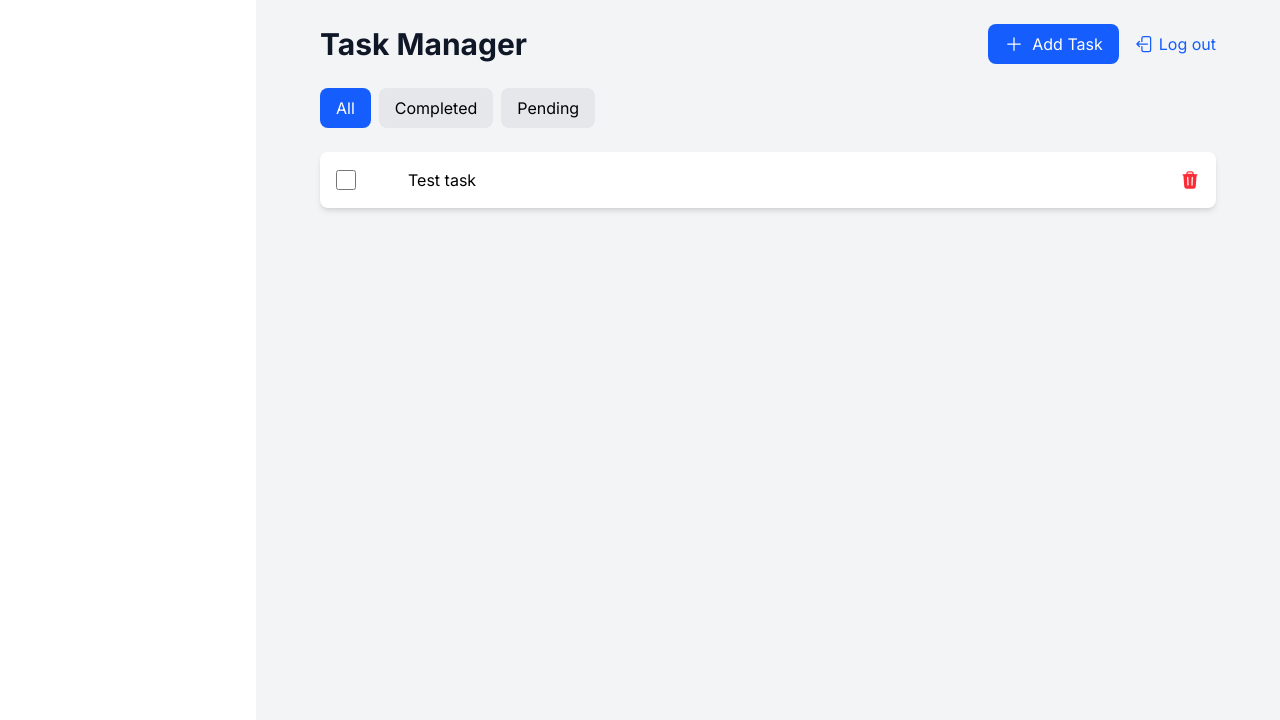
Test case: Tasks page › should show tasks and allows to toggle descriptions
Click the text "Test task": [442, 180] box [408, 168, 476, 192]
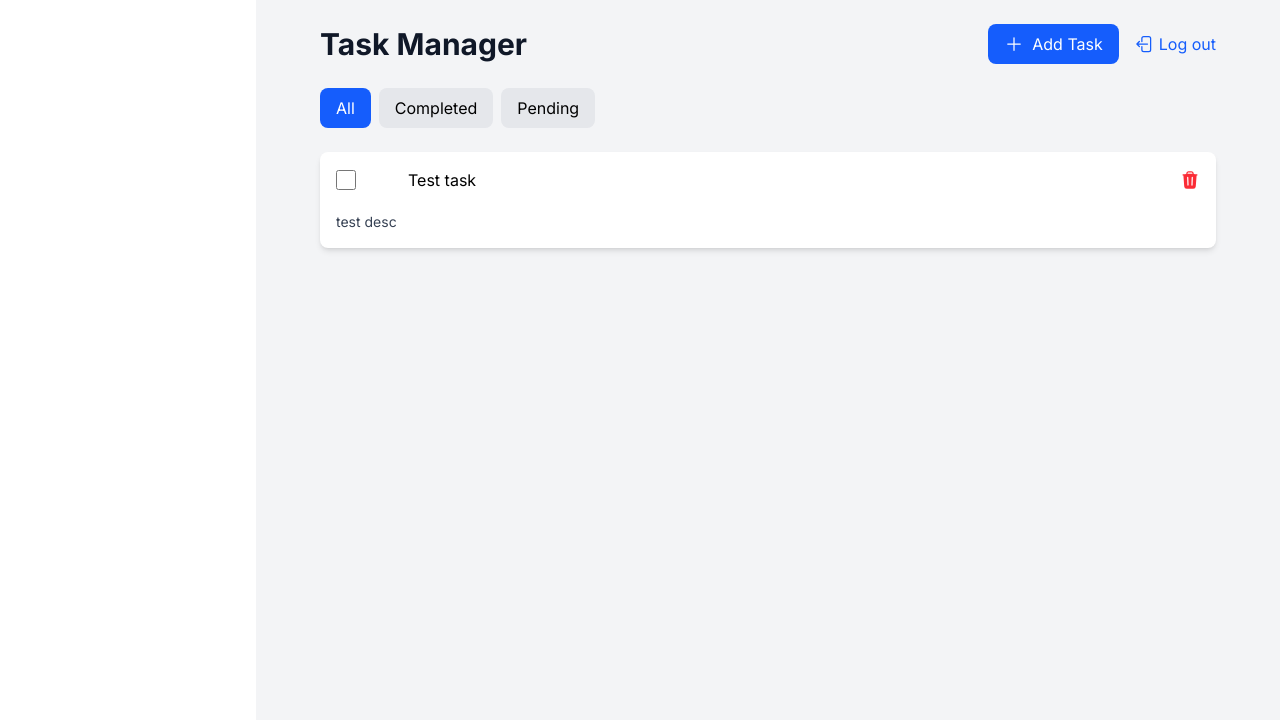
Expected: the text "test desc" is shown, [336, 213, 397, 230]
Click the text "Test task": [442, 180] box [408, 168, 476, 192]
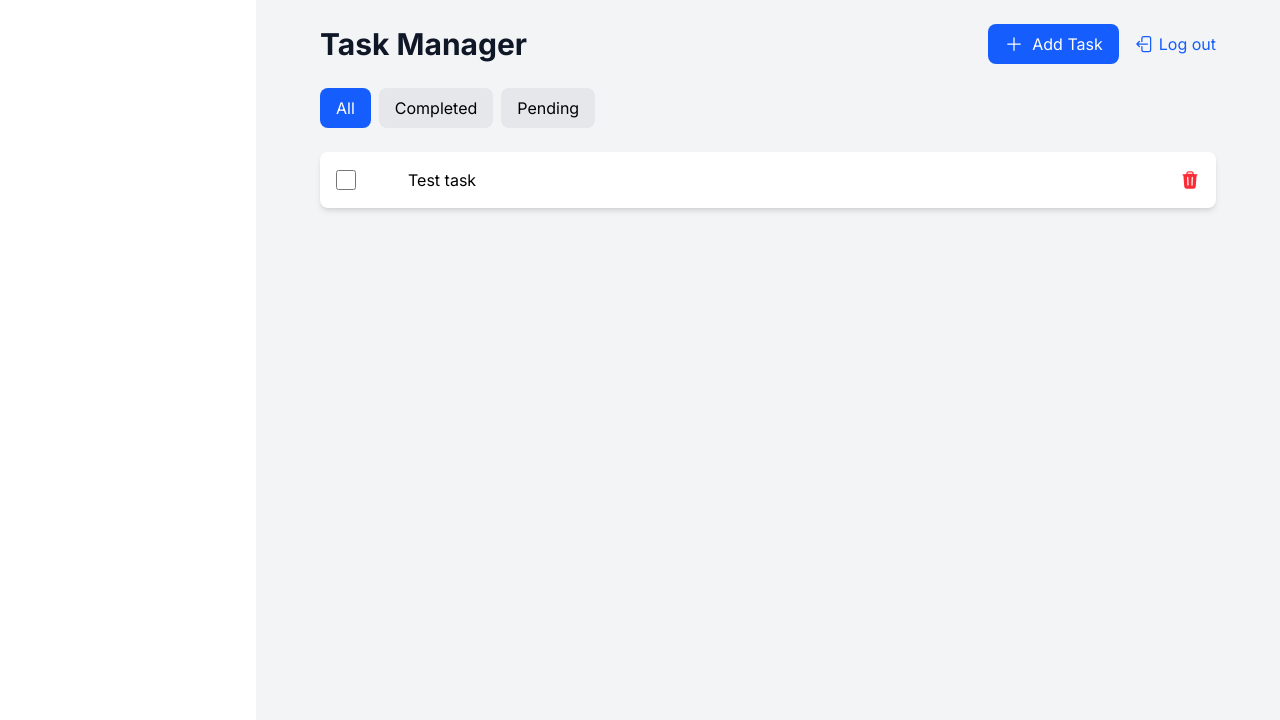
Expected: the text "test desc" is gone
